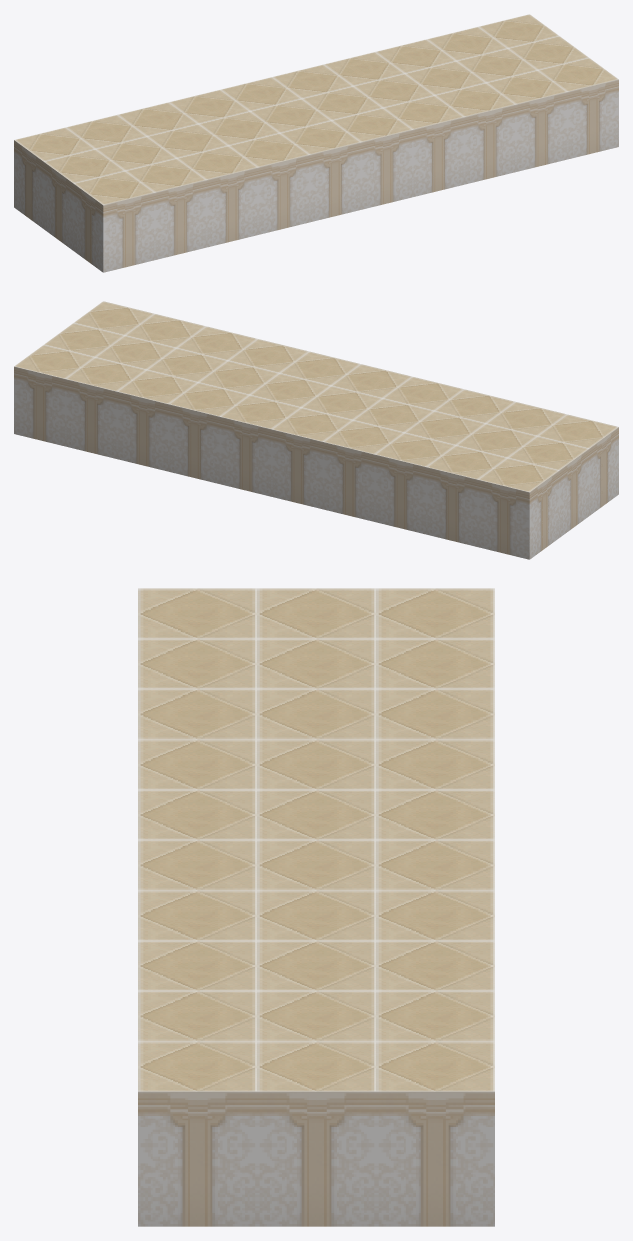
The model's file is StageNormal_Horizontal.fbx.
The picture shows the model from 3 angles, top to bottom: view 1: azimuth 30°, elevation 25°; view 2: azimuth 150°, elevation 25°; view 3: azimuth 270°, elevation 25°; orthographic projection. The views are drawn at different scales.
Parts seen in each view (by area): view 1: Terrain; view 2: Terrain; view 3: Terrain.
Boxes of the visible parts, x1=… form: Terrain: x1=14, y1=14, x2=618, y2=272; Terrain: x1=14, y1=301, x2=618, y2=559; Terrain: x1=138, y1=588, x2=494, y2=1226.
Bounding box in the file's own units: 194 × 24.24 × 58.17.
1 material, 1 textured.
